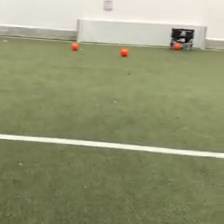ball: (71, 41, 80, 51), (119, 47, 128, 56), (172, 42, 181, 50)
goal: (76, 16, 208, 51)
robot: (169, 27, 195, 52)
